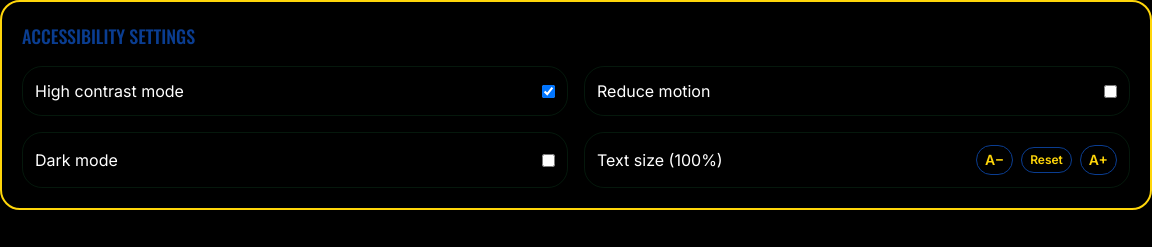
AccessibilityPanel › increases the displayed text size percentage
Click the button named "increase text size" at (1098, 160), box [1080,145,1117,175]
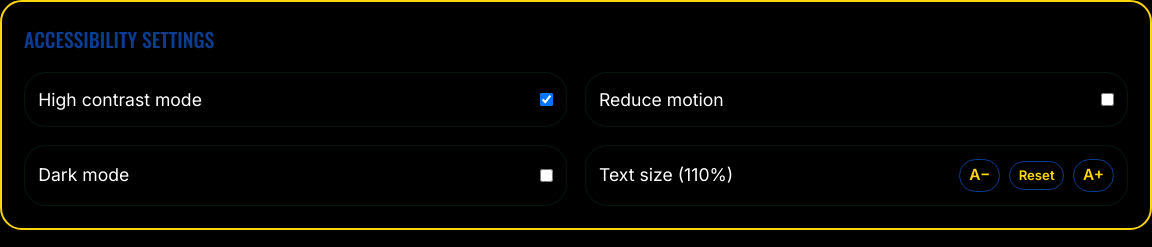
Now the text "Text size (110%)" is shown, box [599,162,733,188]
